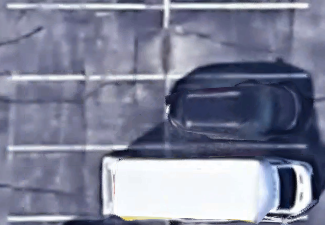Occupied: (7, 147, 167, 220), (168, 147, 308, 219), (167, 76, 308, 147)
Vacant: (8, 5, 167, 78), (8, 78, 168, 148), (166, 5, 308, 76)
